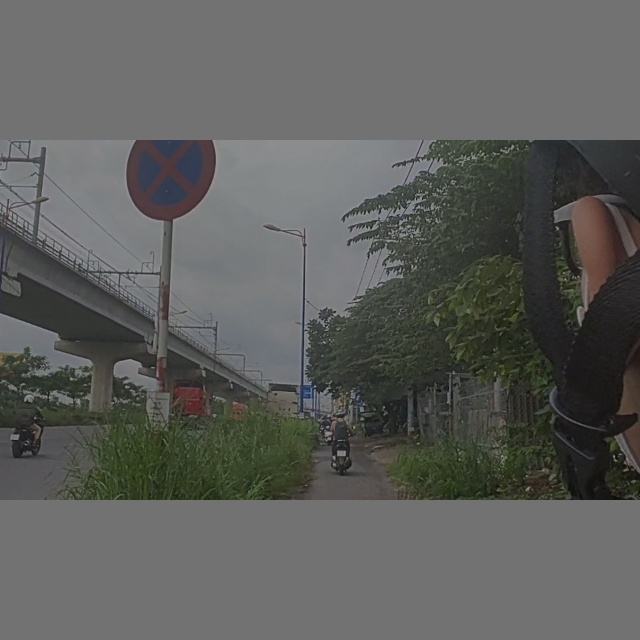I.409: (355, 393, 365, 404)
P.130: (113, 141, 223, 223)
